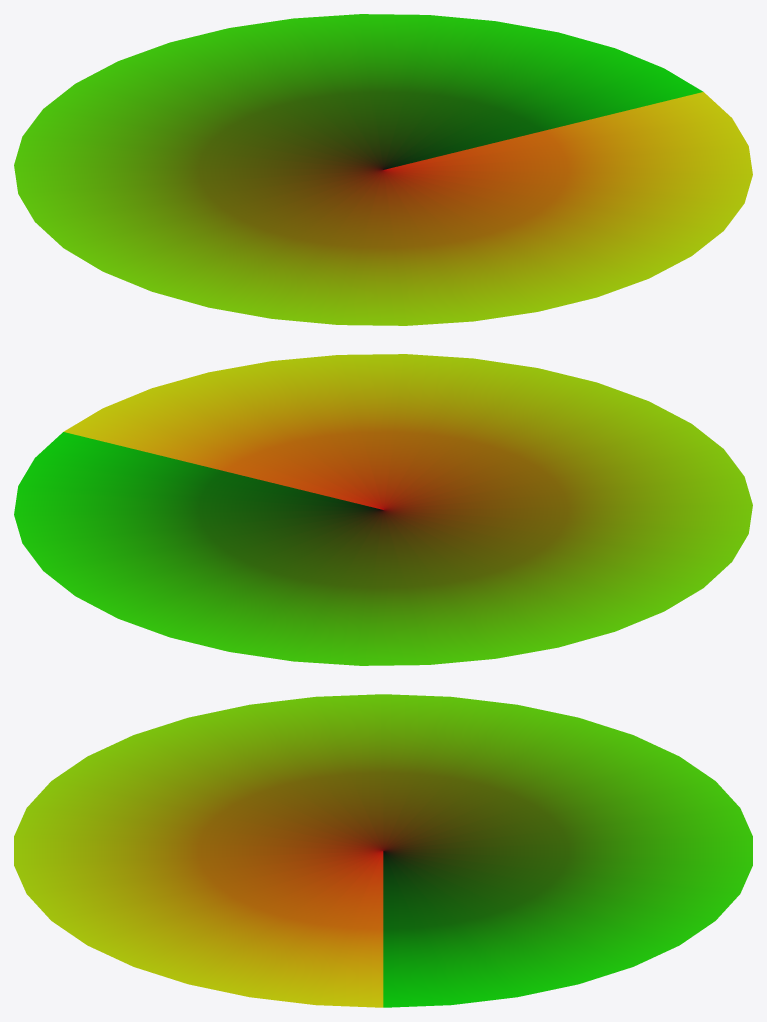
3 views of the same model, one above another, from view 1: azimuth 30°, elevation 25°; view 2: azimuth 150°, elevation 25°; view 3: azimuth 270°, elevation 25° (orthographic).
Visible parts, largest first — view 1: circle_001; view 2: circle_001; view 3: circle_001.
Boxes of the visible parts, <box> form: circle_001: <box>14,14,752,325</box>; circle_001: <box>14,354,752,665</box>; circle_001: <box>14,694,752,1007</box>.
Bounding box in the file's own units: 2 × 0 × 1.99.
